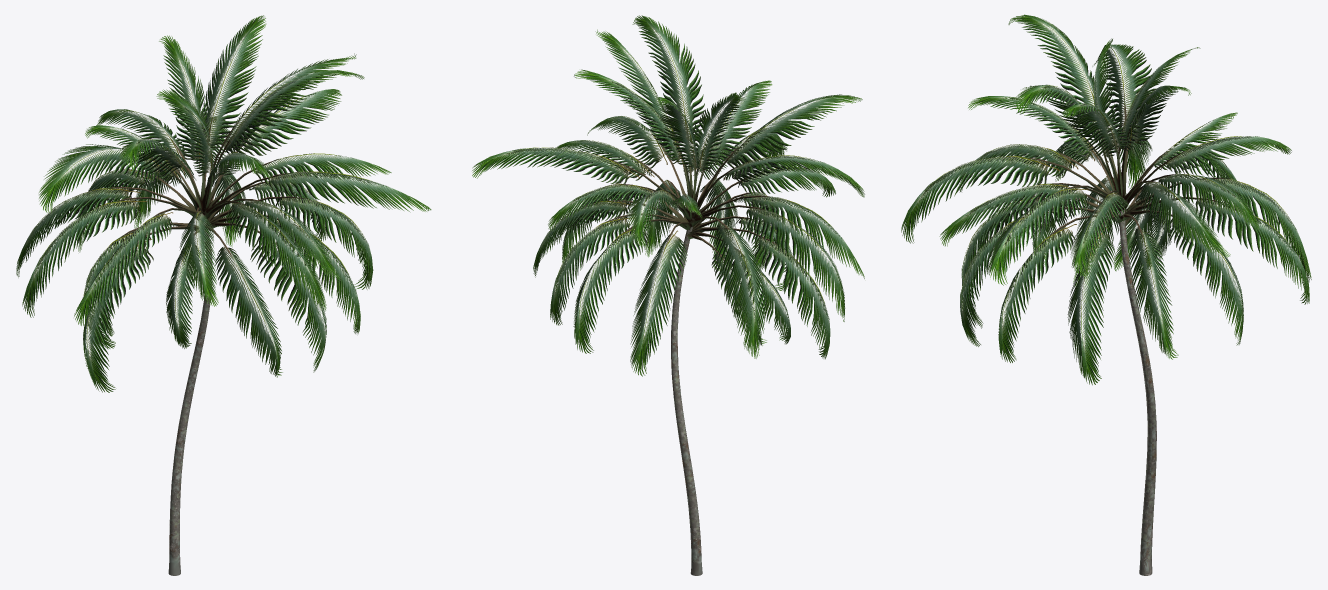
Rendered from tree12.fbx.
3 views of the same model, side by side, from view 1: azimuth 30°, elevation 25°; view 2: azimuth 150°, elevation 25°; view 3: azimuth 270°, elevation 25° (orthographic). The views are drawn at different scales.
Visible parts, largest first — view 1: SM_MZRa_Palm_B081; view 2: SM_MZRa_Palm_B081; view 3: SM_MZRa_Palm_B081.
Boxes of the visible parts, x1,y1,x2,y2 form: SM_MZRa_Palm_B081: [16, 15, 431, 575]; SM_MZRa_Palm_B081: [472, 15, 864, 575]; SM_MZRa_Palm_B081: [901, 14, 1311, 575].
Bounding box in the file's own units: 374 × 501 × 350.
